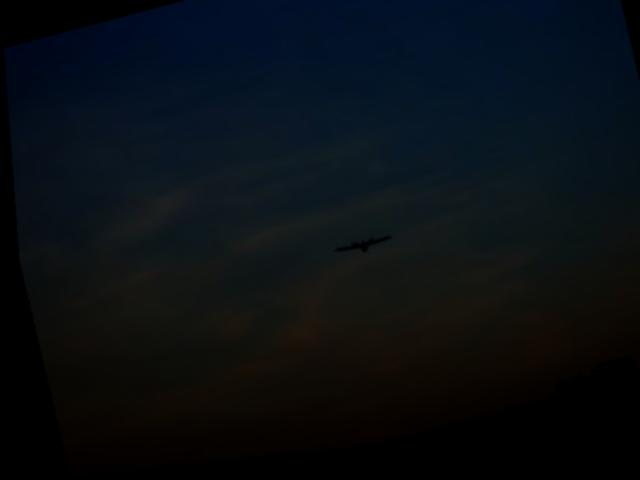uav: (323, 230, 396, 275)
